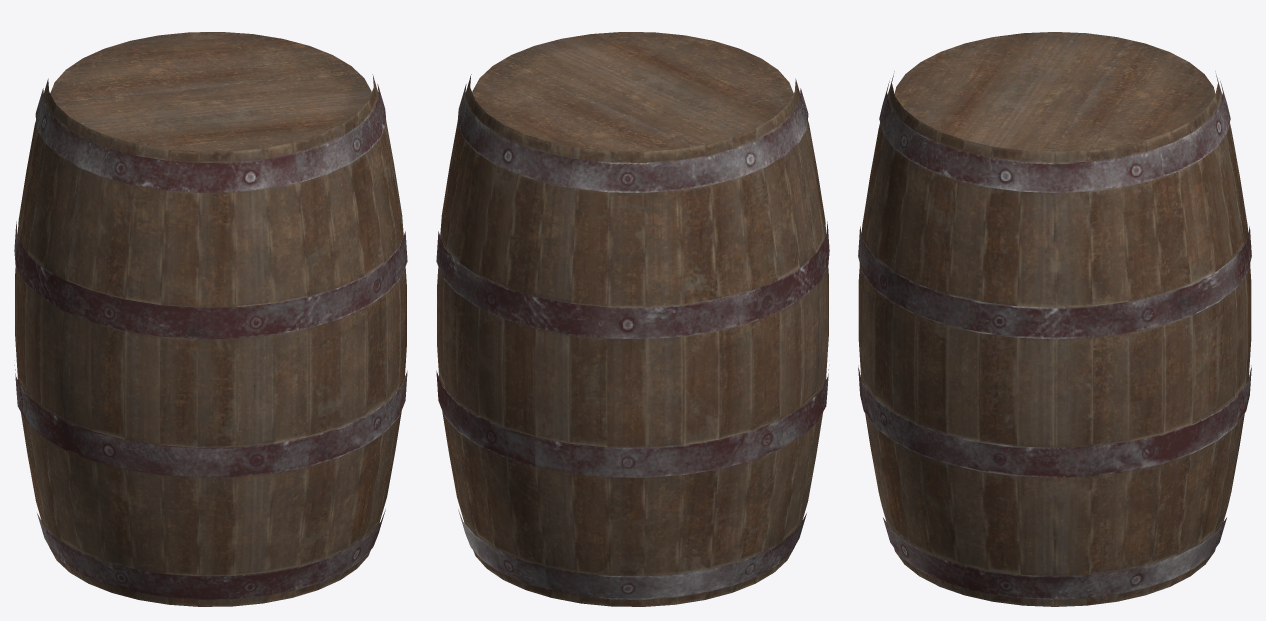
Rendered from barrel_convex.gltf.
3 renders of one model, left to right at view 1: azimuth 30°, elevation 25°; view 2: azimuth 150°, elevation 25°; view 3: azimuth 270°, elevation 25°, orthographic.
Parts seen in each view (by area): view 1: SM_Barrel_01.288, SM_Barrel_01.293, SM_Barrel_01.304, SM_Barrel_01.282, SM_Barrel_01.260, SM_Barrel_01.258, SM_Barrel_01.267, SM_Barrel_01.264, SM_Barrel_01.272, SM_Barrel_01.256, SM_Barrel_01.257, SM_Barrel_01.266 (+1 smaller); view 2: SM_Barrel_01.302, SM_Barrel_01.258, SM_Barrel_01.304, SM_Barrel_01.275, SM_Barrel_01.260, SM_Barrel_01.293, SM_Barrel_01.267, SM_Barrel_01.264, SM_Barrel_01.272, SM_Barrel_01.256, SM_Barrel_01.257, SM_Barrel_01.266 (+1 smaller); view 3: SM_Barrel_01.282, SM_Barrel_01.279, SM_Barrel_01.304, SM_Barrel_01.275, SM_Barrel_01.256, SM_Barrel_01.266, SM_Barrel_01.257, SM_Barrel_01.271, SM_Barrel_01.288, SM_Barrel_01.302.
Boxes of the visible parts, x1,y1,x2,y2 form: SM_Barrel_01.288: (198,125,366,606); SM_Barrel_01.293: (41,117,200,606); SM_Barrel_01.304: (50,32,371,151); SM_Barrel_01.282: (340,74,406,579); SM_Barrel_01.260: (14,221,309,339); SM_Barrel_01.258: (15,78,69,571); SM_Barrel_01.267: (14,365,309,477); SM_Barrel_01.264: (35,88,298,192); SM_Barrel_01.272: (37,513,298,599); SM_Barrel_01.256: (308,231,407,327); SM_Barrel_01.257: (295,84,386,182); SM_Barrel_01.266: (308,370,407,466); SM_Barrel_01.302: (503,134,683,606); SM_Barrel_01.258: (675,117,802,604); SM_Barrel_01.304: (472,32,793,151); SM_Barrel_01.275: (437,87,525,589); SM_Barrel_01.260: (534,221,829,339); SM_Barrel_01.293: (774,78,828,571); SM_Barrel_01.267: (534,365,829,477); SM_Barrel_01.264: (545,88,808,192); SM_Barrel_01.272: (545,513,806,599); SM_Barrel_01.256: (436,231,535,327); SM_Barrel_01.257: (457,84,548,182); SM_Barrel_01.266: (436,370,535,466); SM_Barrel_01.282: (873,109,1054,606); SM_Barrel_01.279: (1055,140,1163,606); SM_Barrel_01.304: (894,32,1215,151); SM_Barrel_01.275: (1145,96,1247,594); SM_Barrel_01.256: (858,226,1251,339); SM_Barrel_01.266: (858,365,1251,477); SM_Barrel_01.257: (879,93,1230,192); SM_Barrel_01.271: (883,517,1226,599); SM_Barrel_01.288: (858,71,904,563); SM_Barrel_01.302: (1215,71,1251,502).
Bounding box in the file's own units: 0.8008 × 1.02 × 0.8008.
1 material, 1 textured.
